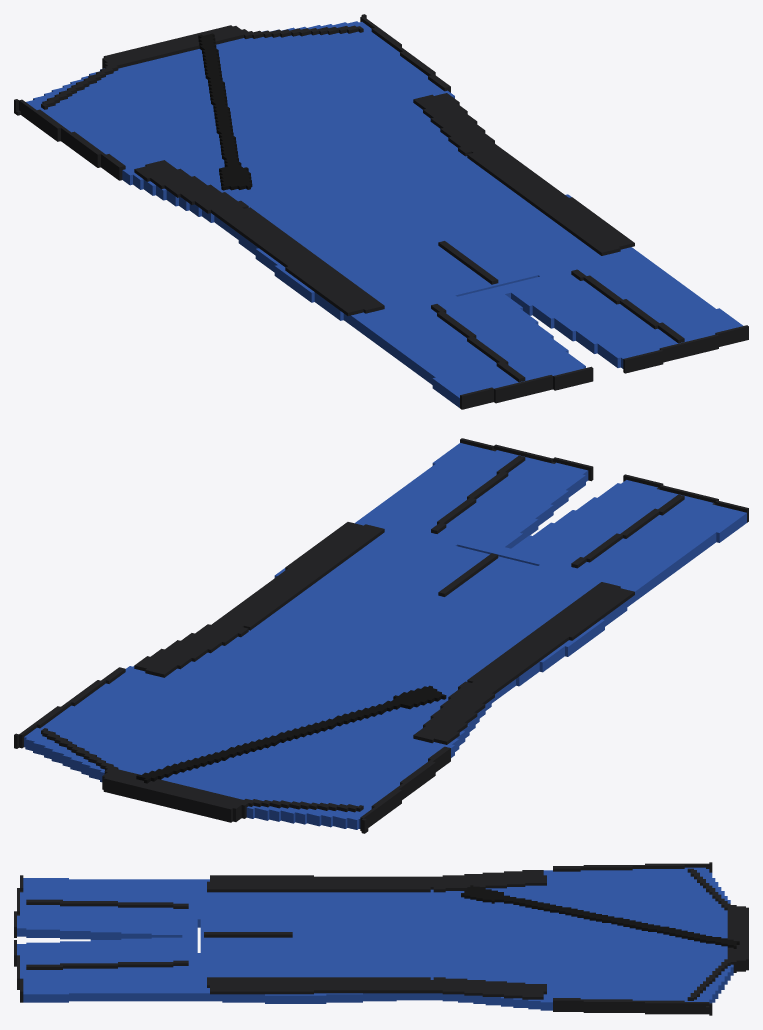
The model's file is wetsuit_spring_sleeveless.glb.
3 views of the same model, one above another, from view 1: azimuth 30°, elevation 25°; view 2: azimuth 150°, elevation 25°; view 3: azimuth 270°, elevation 25° (orthographic). The views are drawn at different scales.
Parts seen in each view (by area): view 1: wetsuit_spring_sleeveless:compound; view 2: wetsuit_spring_sleeveless:compound; view 3: wetsuit_spring_sleeveless:compound.
Part boxes in pixels (x1=…): wetsuit_spring_sleeveless:compound: x1=14, y1=14, x2=748, y2=409; wetsuit_spring_sleeveless:compound: x1=14, y1=438, x2=748, y2=833; wetsuit_spring_sleeveless:compound: x1=14, y1=862, x2=748, y2=1015.
Size of the model in its own units: 0.44 by 0.02 by 0.96.
